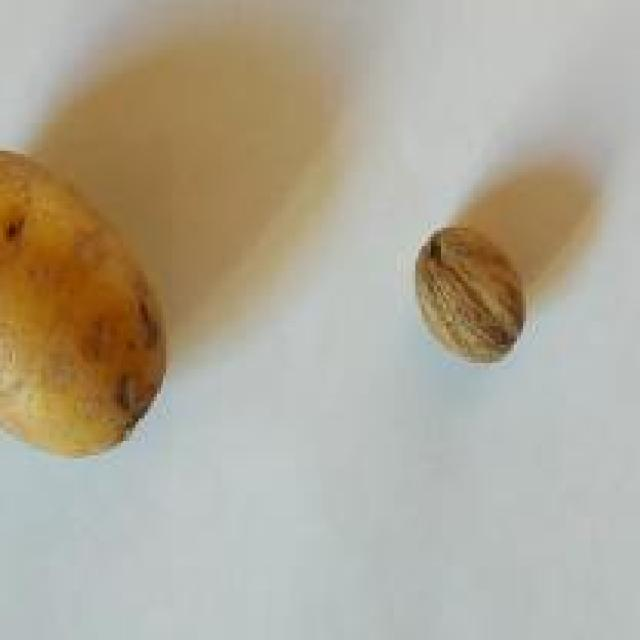potato: (0, 138, 175, 455)
